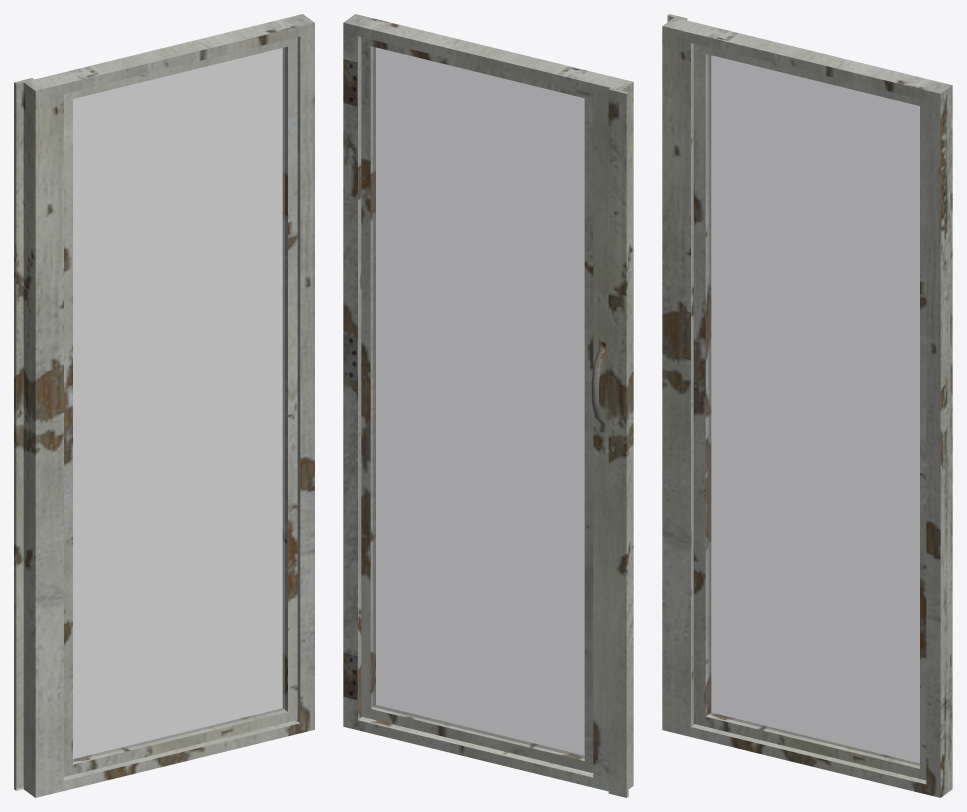
File: Cubbert_A_Door_L.fbx
The picture shows the model from 3 angles, left to right: view 1: azimuth 30°, elevation 25°; view 2: azimuth 150°, elevation 25°; view 3: azimuth 330°, elevation 25°; orthographic projection.
Parts seen in each view (by area): view 1: Cubbert_A_Door_L; view 2: Cubbert_A_Door_L; view 3: Cubbert_A_Door_L.
Boxes of the visible parts, <box> form: Cubbert_A_Door_L: <box>14,14,314,797</box>; Cubbert_A_Door_L: <box>343,14,633,797</box>; Cubbert_A_Door_L: <box>662,14,952,797</box>.
Bounding box in the file's own units: 0.476 × 1.12 × 0.0601.
